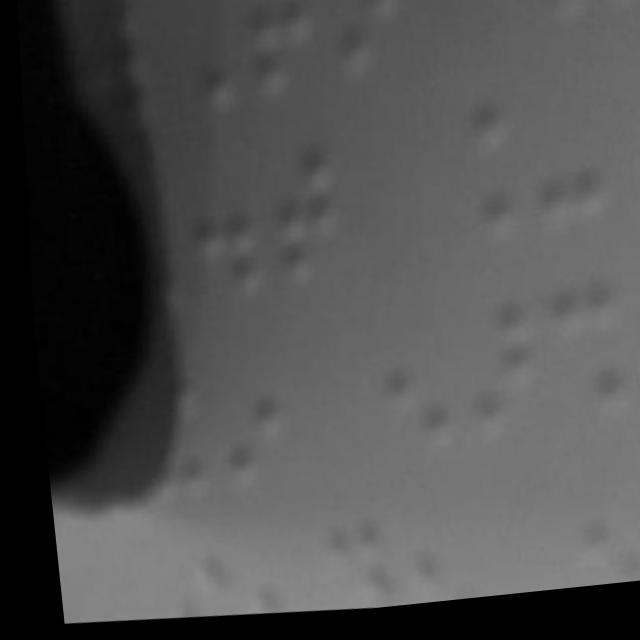braiile: (168, 165, 263, 320), (417, 114, 516, 256), (198, 348, 288, 504), (359, 309, 449, 464), (448, 299, 534, 454), (538, 290, 625, 440), (254, 152, 342, 299), (518, 119, 606, 262), (234, 0, 322, 115), (318, 0, 406, 109)
